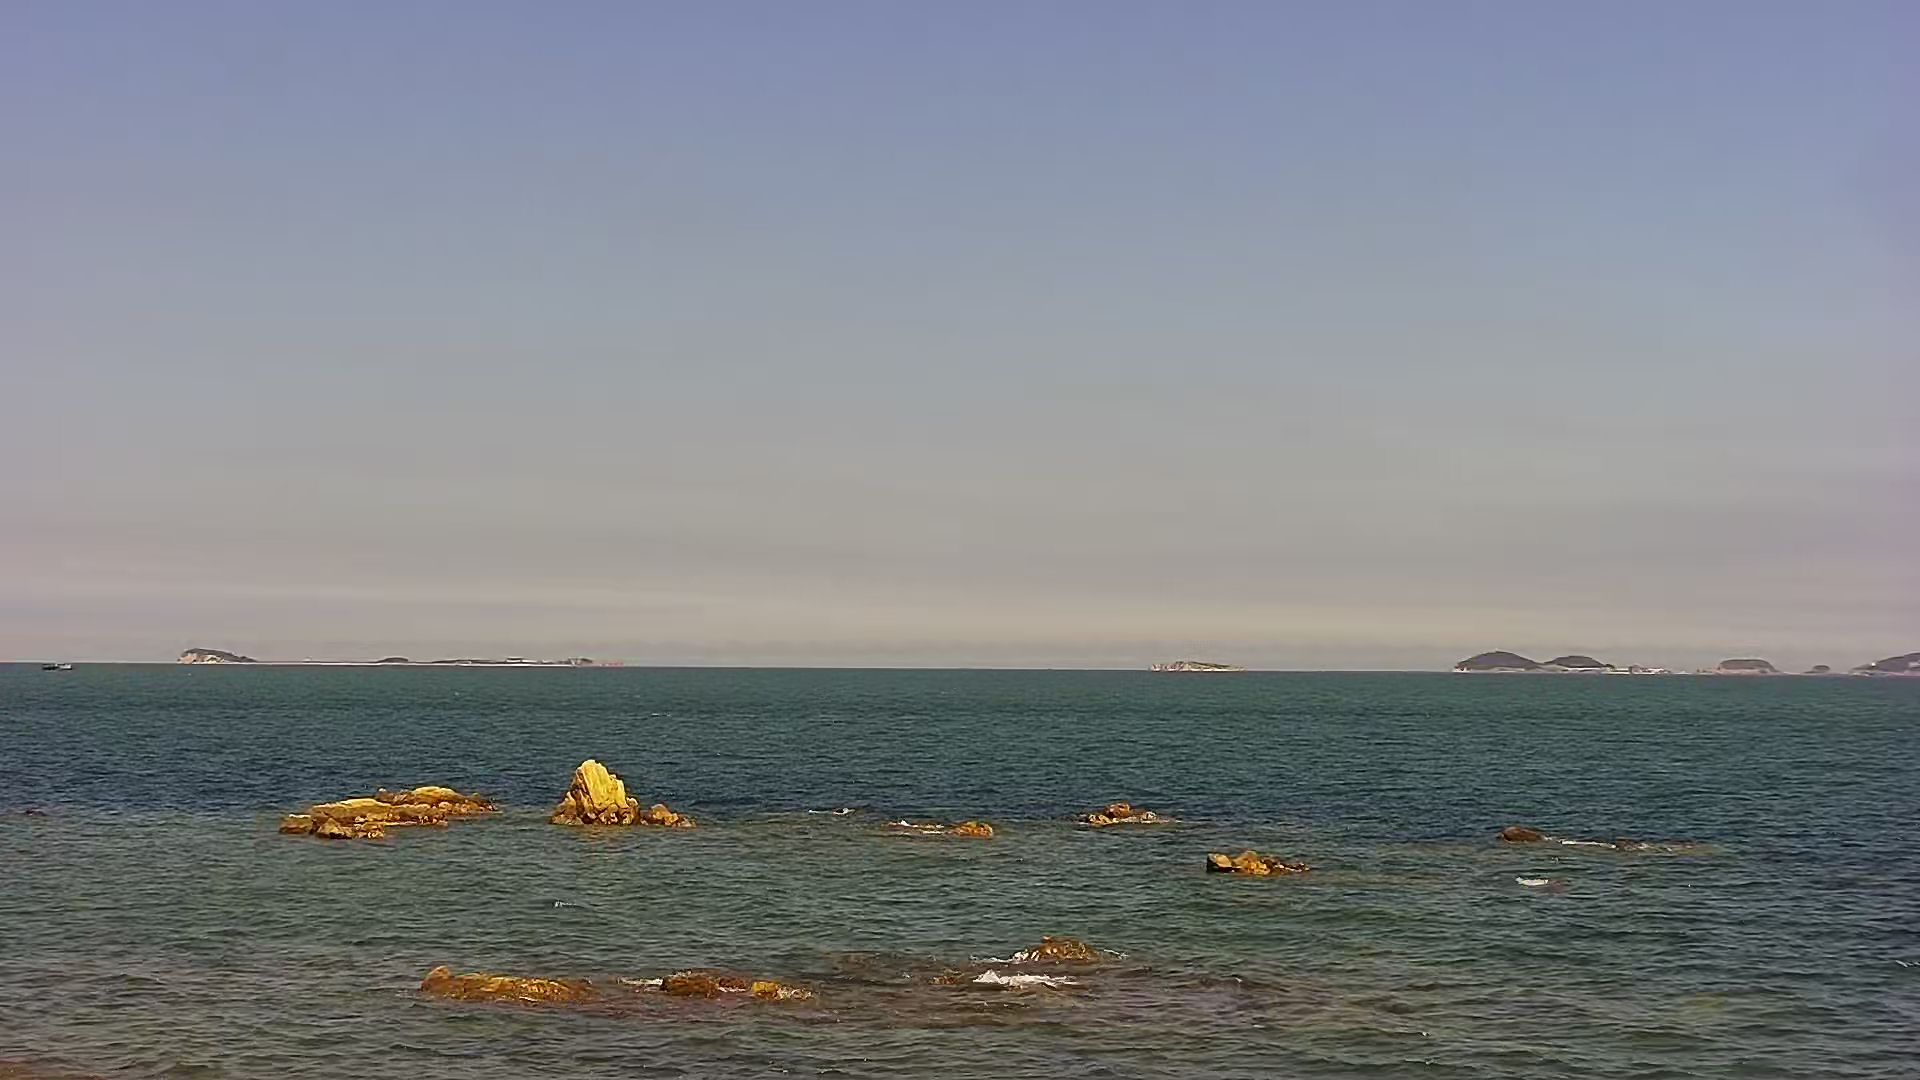platform: (36, 655, 80, 673)
rock: (546, 760, 712, 851), (281, 778, 501, 847), (409, 955, 622, 1018), (646, 955, 825, 1015), (971, 928, 1143, 977), (363, 646, 630, 673), (1480, 812, 1633, 855), (1073, 785, 1183, 840), (891, 808, 1014, 856), (1196, 837, 1315, 880), (1435, 641, 1561, 680), (1555, 650, 1679, 683), (1842, 634, 1920, 675), (167, 641, 258, 671), (1696, 653, 1789, 678), (1139, 655, 1244, 675), (1797, 653, 1845, 675)
